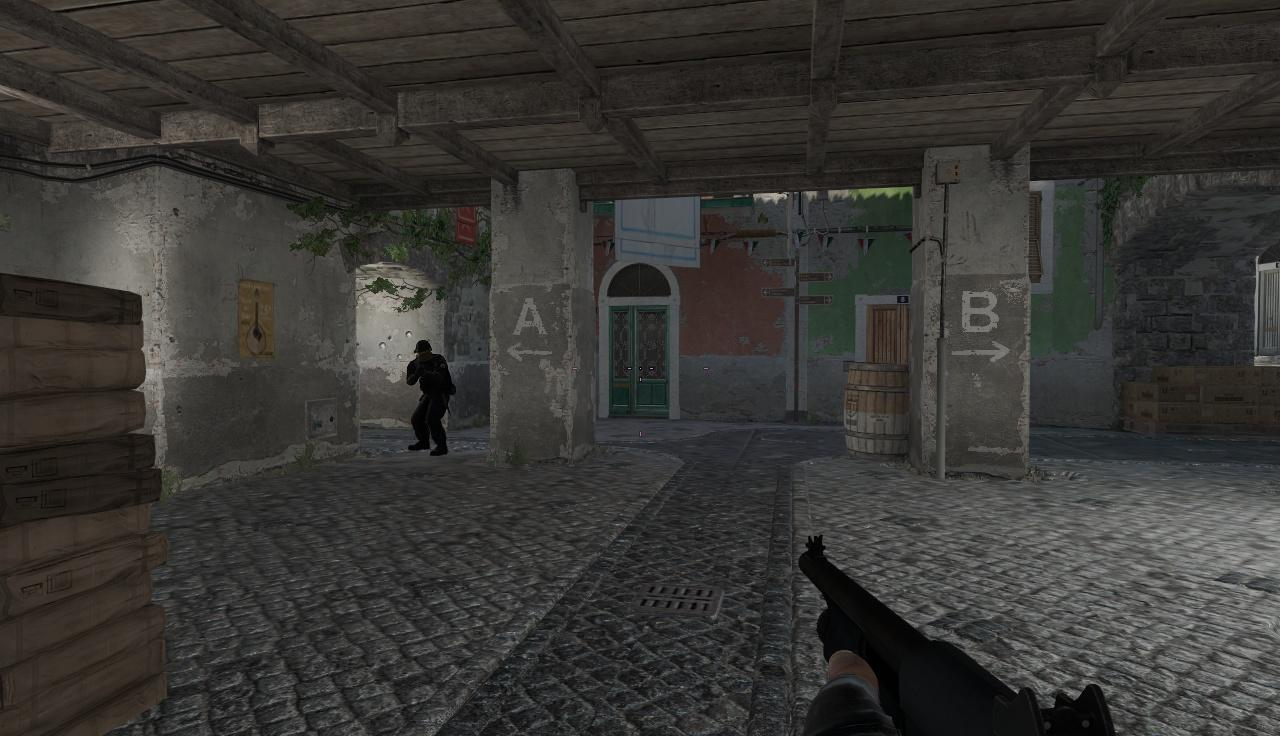ct: (406, 339, 454, 457)
cthead: (413, 339, 434, 362)
shotgun: (789, 533, 1121, 736)
